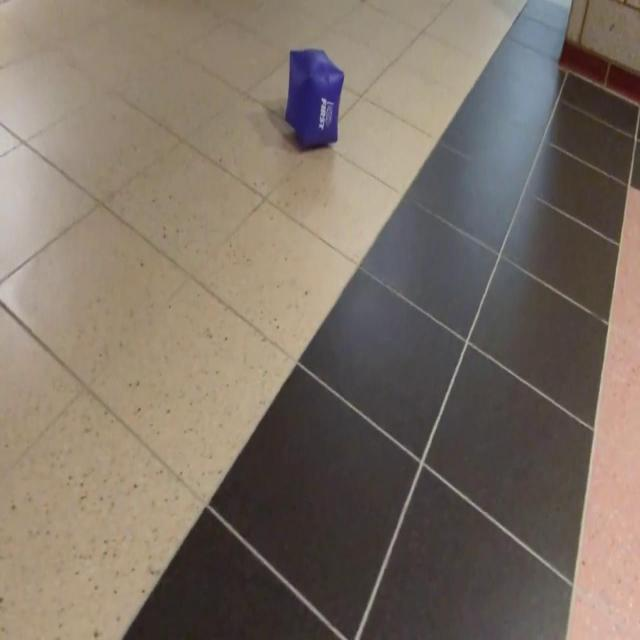frc_cube: (282, 48, 344, 148)
